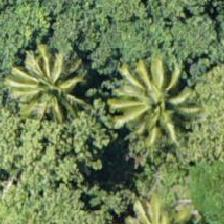coconut_tree: (113, 48, 203, 138), (1, 40, 91, 130)
